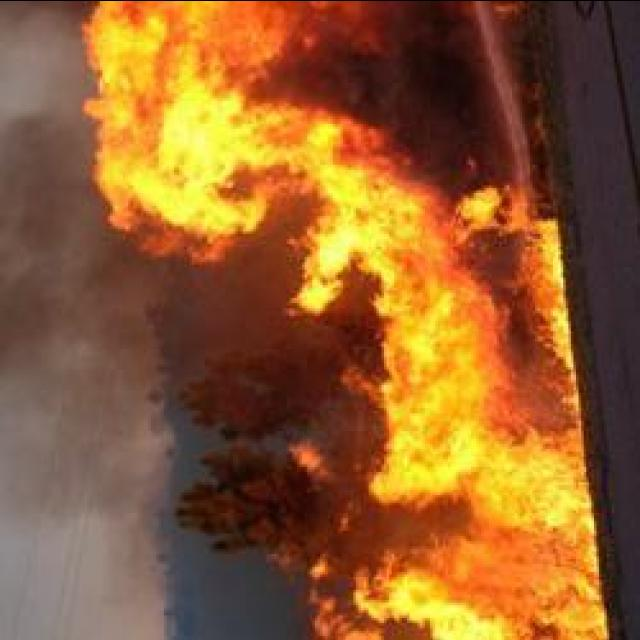fire: (298, 132, 484, 412), (94, 1, 310, 240), (390, 417, 606, 640)
smoke: (7, 108, 122, 481), (101, 249, 299, 392)
